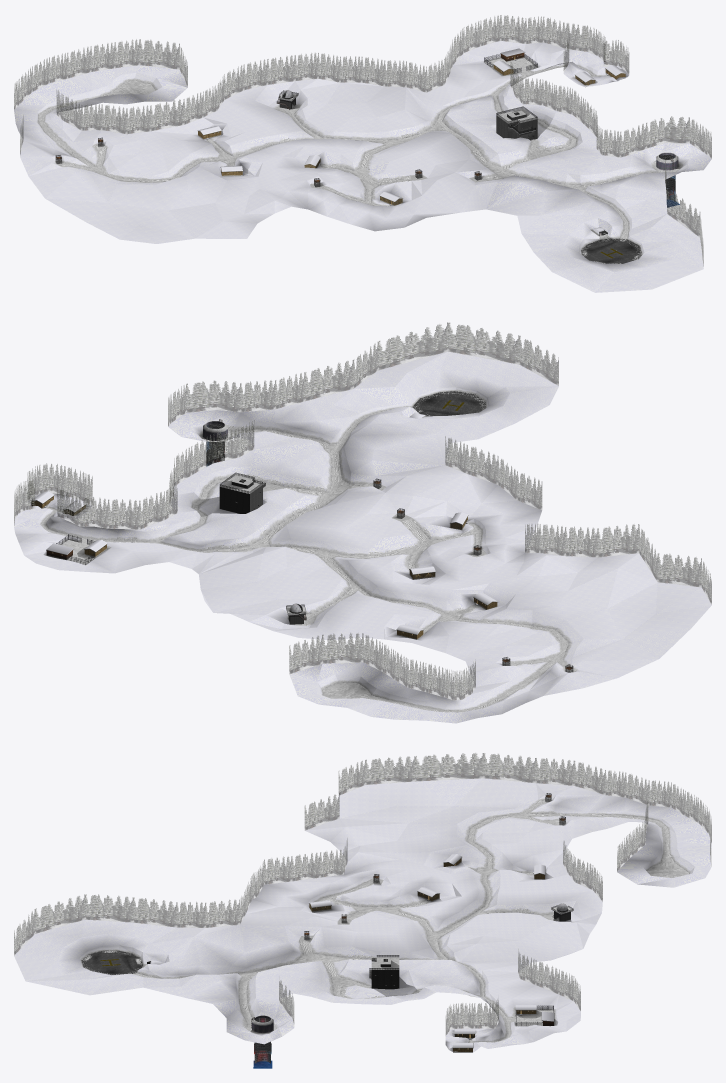
The picture shows the model from 3 angles, top to bottom: view 1: azimuth 30°, elevation 25°; view 2: azimuth 150°, elevation 25°; view 3: azimuth 270°, elevation 25°; orthographic projection. The views are drawn at different scales.
Parts seen in each view (by area): view 1: Surface_0, Surface_1, Surface_Alpha_4, Surface_Alpha_3, Surface_Alpha_5, Surface_Alpha_6, Surface_2, Surface_8, Surface_36, Surface_24, Surface_Alpha_9; view 2: Surface_0, Surface_1, Surface_Alpha_4, Surface_Alpha_3, Surface_Alpha_5, Surface_2, Surface_Alpha_6, Surface_8, Surface_36, Surface_24; view 3: Surface_0, Surface_1, Surface_Alpha_4, Surface_Alpha_3, Surface_Alpha_5, Surface_2, Surface_Alpha_6, Surface_8, Surface_36, Surface_24.
Part boxes in pixels (x1,y1,x2,y2): Surface_0: (14, 41, 711, 292); Surface_1: (35, 54, 688, 258); Surface_Alpha_4: (14, 27, 711, 259); Surface_Alpha_3: (14, 34, 711, 265); Surface_Alpha_5: (14, 21, 711, 252); Surface_Alpha_6: (14, 15, 711, 233); Surface_2: (38, 57, 660, 239); Surface_8: (56, 58, 681, 235); Surface_36: (581, 238, 641, 263); Surface_24: (279, 93, 607, 236); Surface_Alpha_9: (55, 90, 537, 182); Surface_0: (14, 351, 711, 723); Surface_1: (37, 387, 583, 710); Surface_Alpha_4: (14, 336, 711, 692); Surface_Alpha_3: (14, 344, 711, 700); Surface_Alpha_5: (14, 329, 711, 685); Surface_2: (32, 407, 568, 712); Surface_Alpha_6: (14, 322, 711, 677); Surface_8: (53, 415, 577, 698); Surface_36: (412, 391, 486, 416); Surface_24: (219, 480, 305, 624); Surface_0: (14, 778, 711, 1052); Surface_1: (79, 794, 694, 1044); Surface_Alpha_4: (14, 765, 711, 1031); Surface_Alpha_3: (14, 772, 711, 1037); Surface_Alpha_5: (14, 759, 711, 1024); Surface_2: (133, 802, 674, 1052); Surface_Alpha_6: (14, 752, 711, 1017); Surface_8: (147, 799, 688, 1042); Surface_36: (81, 950, 142, 974); Surface_24: (147, 908, 570, 989).
Size of the model in its own units: 1789 by 239 by 1952.
76 materials, 75 textured.
